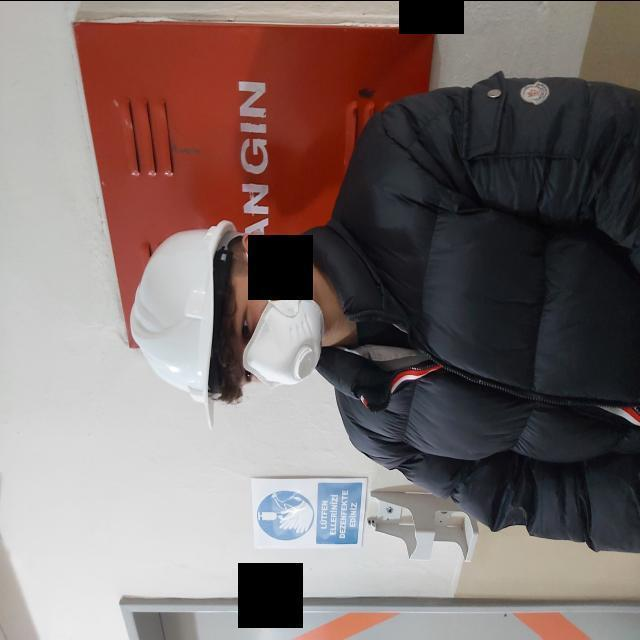helmet: (128, 219, 240, 428)
